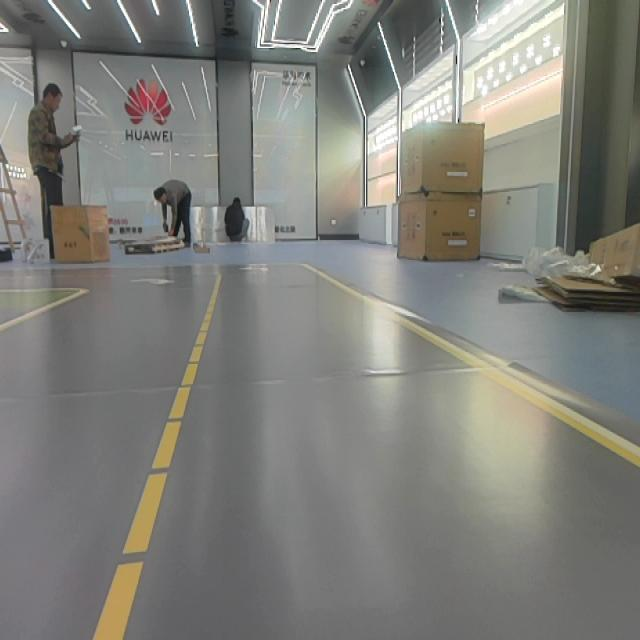left_lane: (89, 271, 223, 640)
right_lane: (307, 262, 639, 470), (0, 291, 90, 333)
